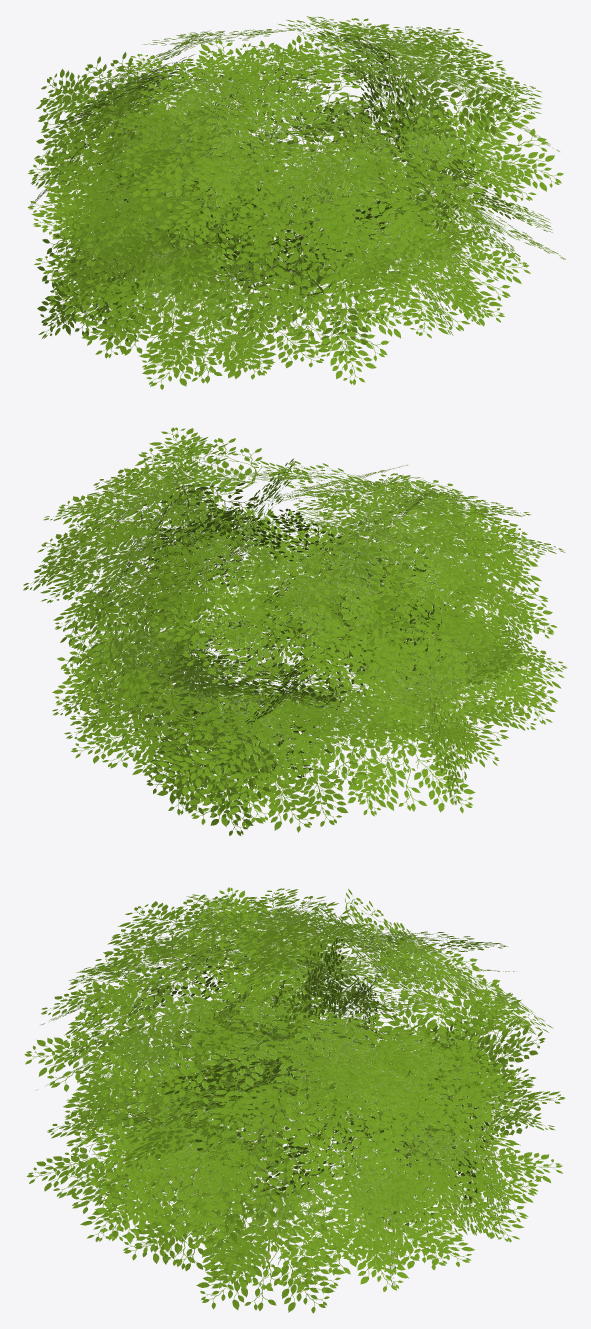
The model's file is shrub.obj.
3 views of the same model, one above another, from view 1: azimuth 30°, elevation 25°; view 2: azimuth 150°, elevation 25°; view 3: azimuth 270°, elevation 25° (orthographic). The views are drawn at different scales.
Visible parts, largest first — view 1: obj1; view 2: obj1; view 3: obj1.
Boxes of the visible parts, left/top/right/bottom form: obj1: left=27, top=16, right=565, bottom=389; obj1: left=23, top=427, right=566, bottom=835; obj1: left=24, top=887, right=565, bottom=1313.
Size of the model in its own units: 4.17 by 2.37 by 3.88.
